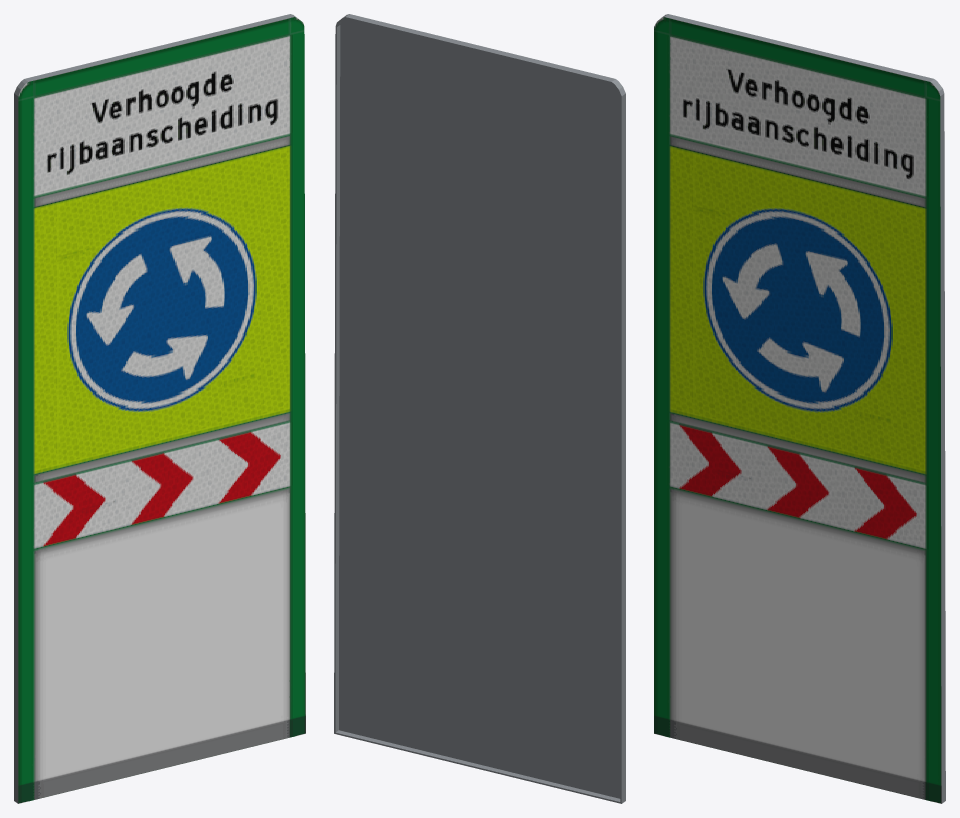
3 views of the same model, side by side, from view 1: azimuth 30°, elevation 25°; view 2: azimuth 150°, elevation 25°; view 3: azimuth 330°, elevation 25° (orthographic).
Visible parts, largest first — view 1: cat_54182c6e437660fc; view 2: cat_54182c6e437660fc; view 3: cat_54182c6e437660fc.
Part boxes in pixels (x1,y1,x2,y2): cat_54182c6e437660fc: [14, 14, 305, 803]; cat_54182c6e437660fc: [334, 14, 625, 803]; cat_54182c6e437660fc: [654, 14, 945, 803].
Size of the model in its own units: 0.6 by 0.015 by 1.43.
Materials: 2 (1 with a texture image).
